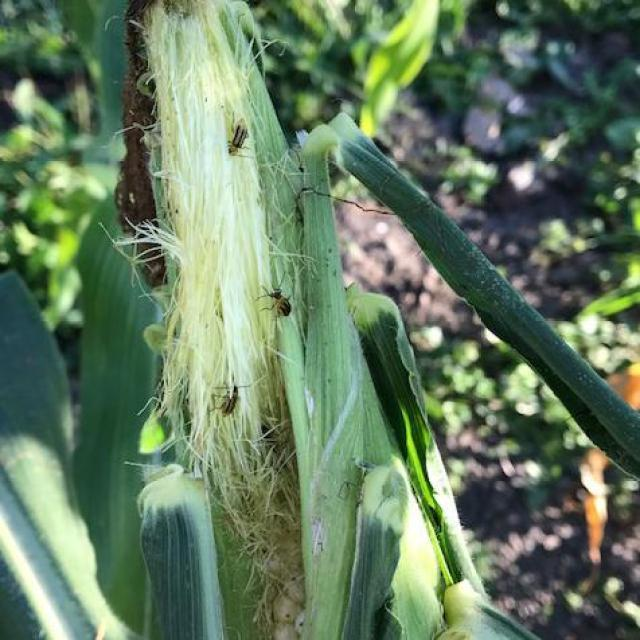trips: (257, 276, 302, 326), (210, 376, 248, 426), (222, 111, 254, 159)
